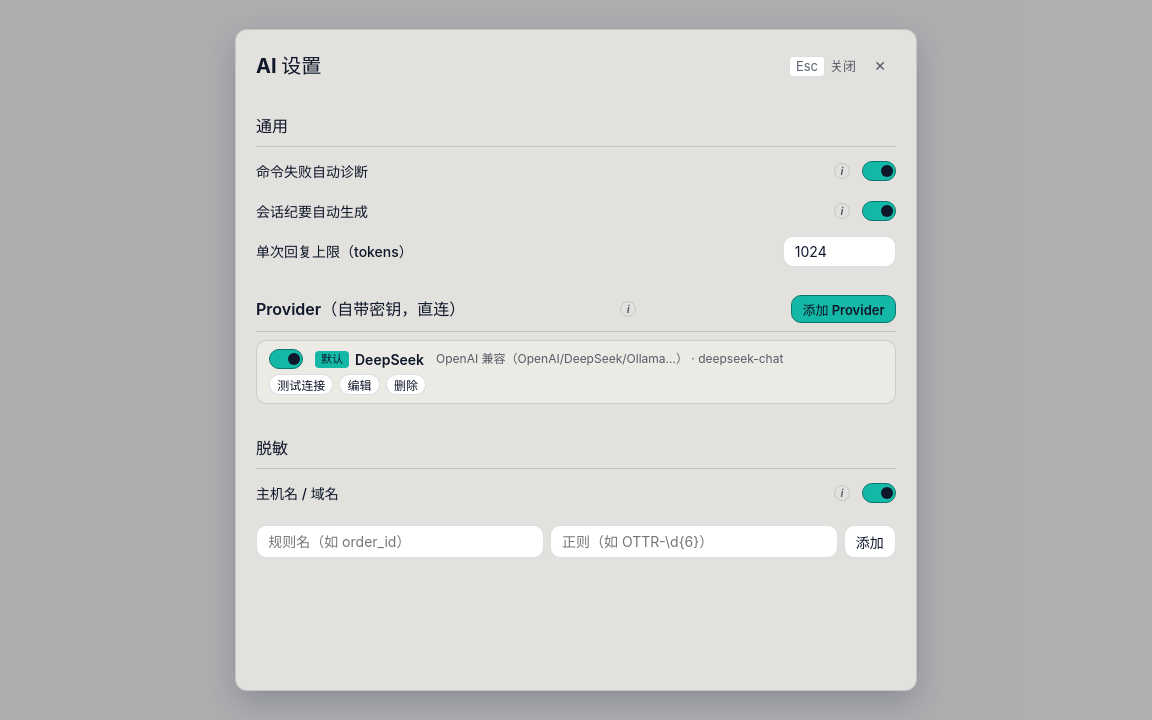
provider 列表与 CRUD › 测试连接失败：错误消息原样展示
The image size is (1152, 720).
What coordinates should you click on to do the following:
click the button with test id "ai-provider-test-p1"
I would click on:
 (301, 385)
Its box is top-left (269, 374), bottom-right (333, 395).
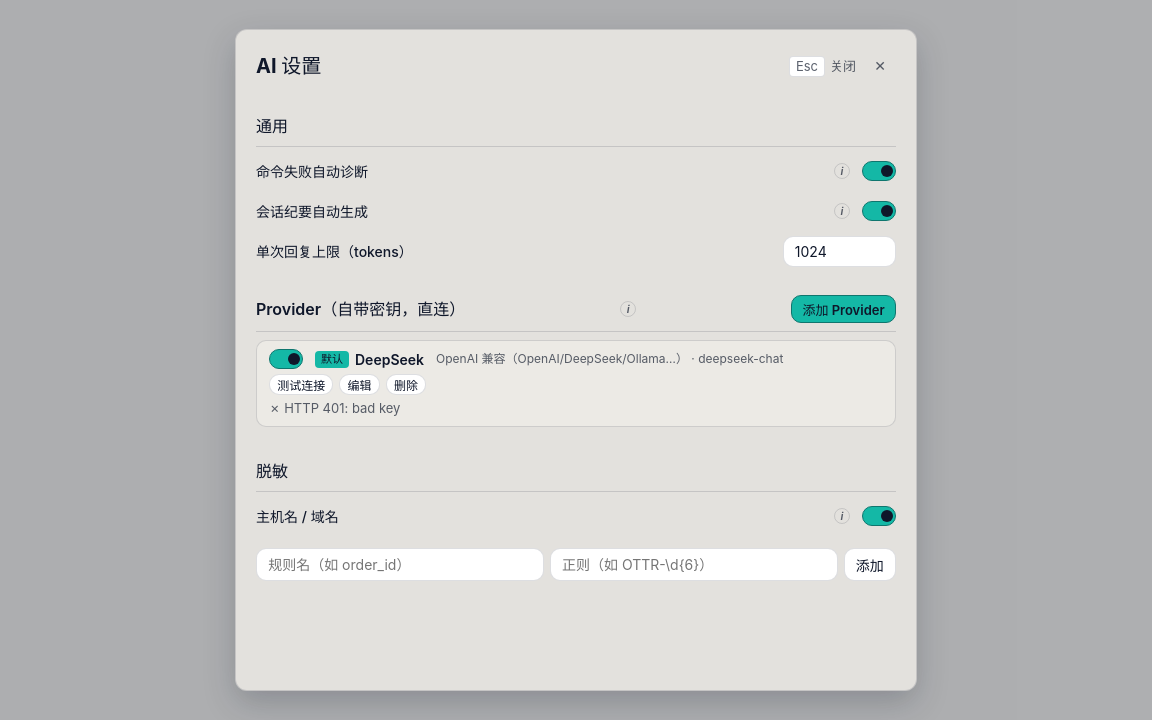
Expected: the text with test id "ai-test-result-p1" shows "bad key", top-left (284, 400), bottom-right (400, 416)
